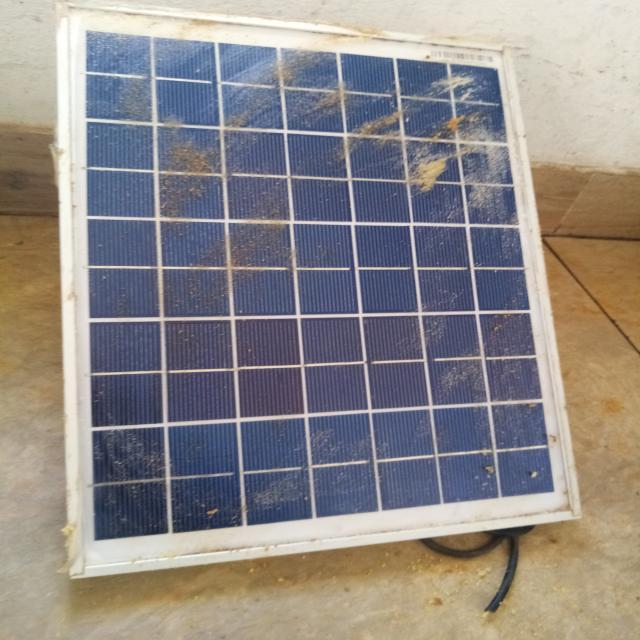faulty: (66, 3, 578, 578)
